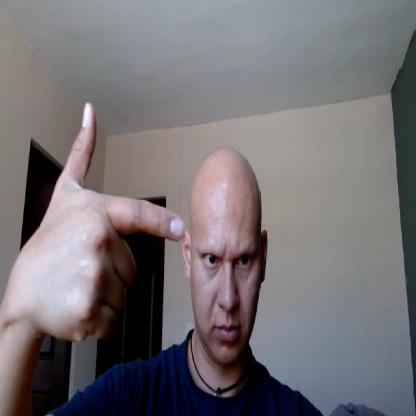G: (29, 100, 186, 342)
